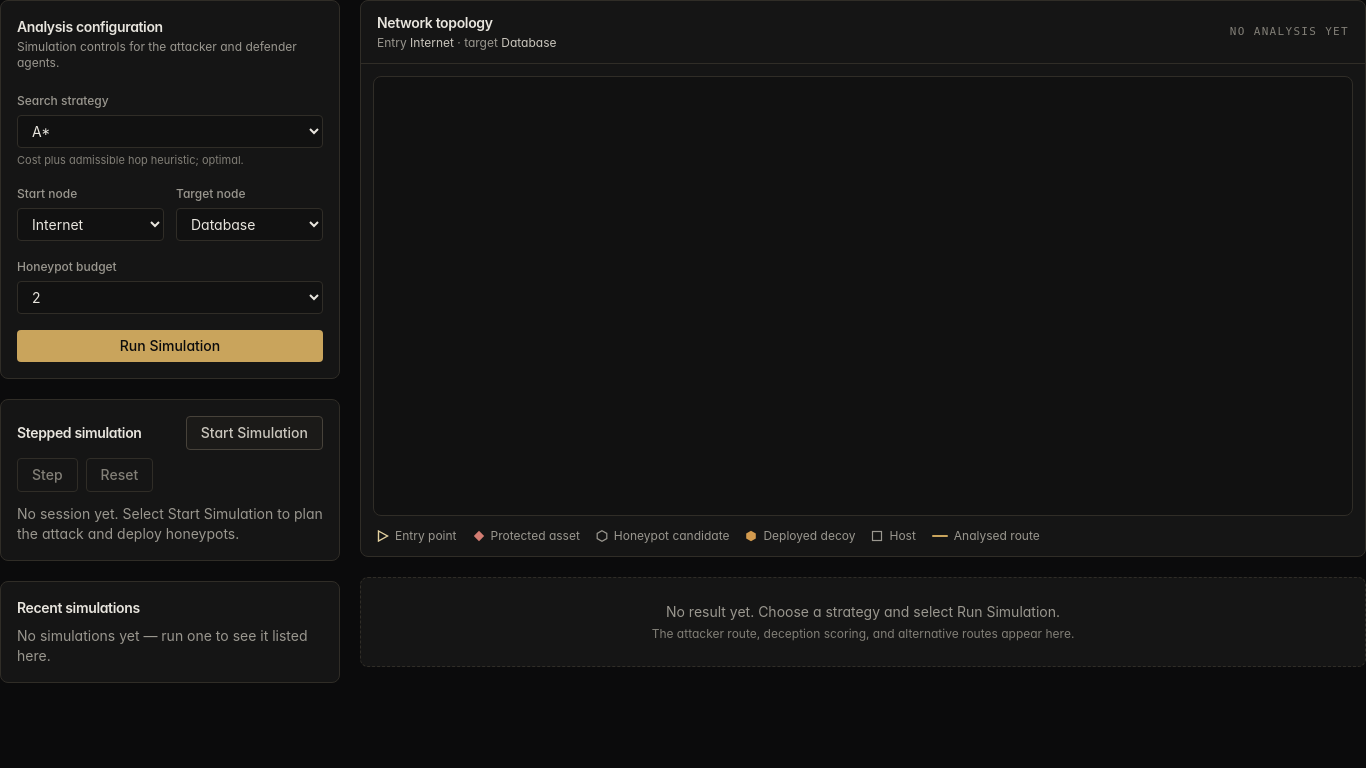
Test: SimulationPanel › advances the attacker and reports interception, then disables Step
Step 1. Click the button "Start Simulation" → (254, 433), box [186, 416, 323, 450]
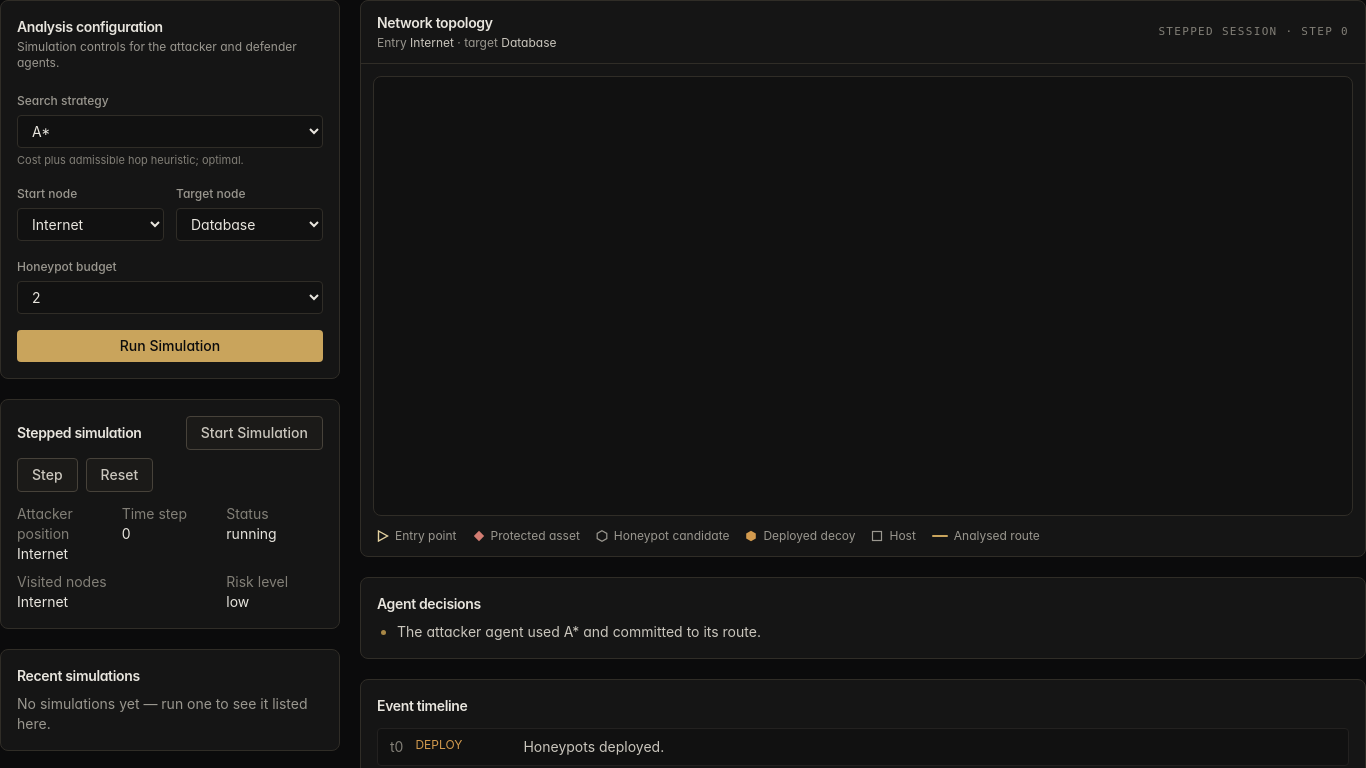
expect the button "Step" is enabled: met
Step 2. Click the button "Step" → (47, 475), box [17, 458, 78, 492]
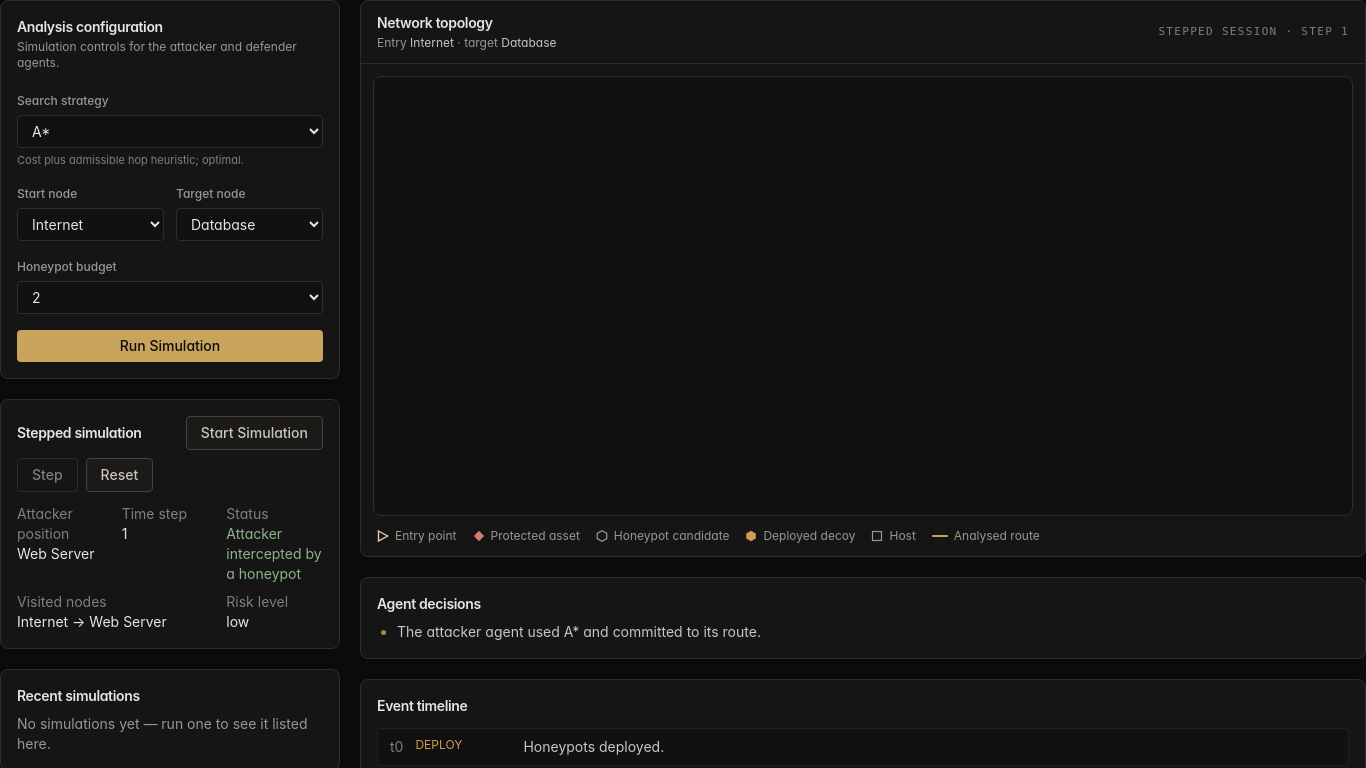
expect the text "Attacker intercepted by a honeypot" is shown: met, box [226, 524, 323, 584]
expect the text "Internet → Web Server" is shown: met, box [17, 613, 167, 630]
expect the button "Step" is disabled: met, box [17, 458, 78, 492]
